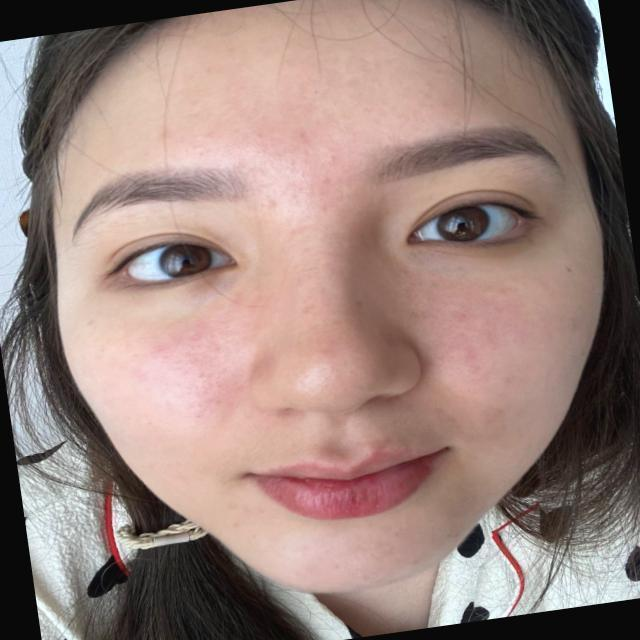acne: (489, 408, 511, 424), (319, 342, 336, 362), (263, 195, 284, 211), (460, 348, 475, 365), (196, 369, 211, 382)
blackhead: (311, 369, 358, 397), (298, 301, 318, 321), (326, 150, 346, 164), (446, 530, 463, 542), (318, 173, 332, 184), (249, 531, 260, 543), (410, 558, 424, 566), (332, 562, 341, 572)
